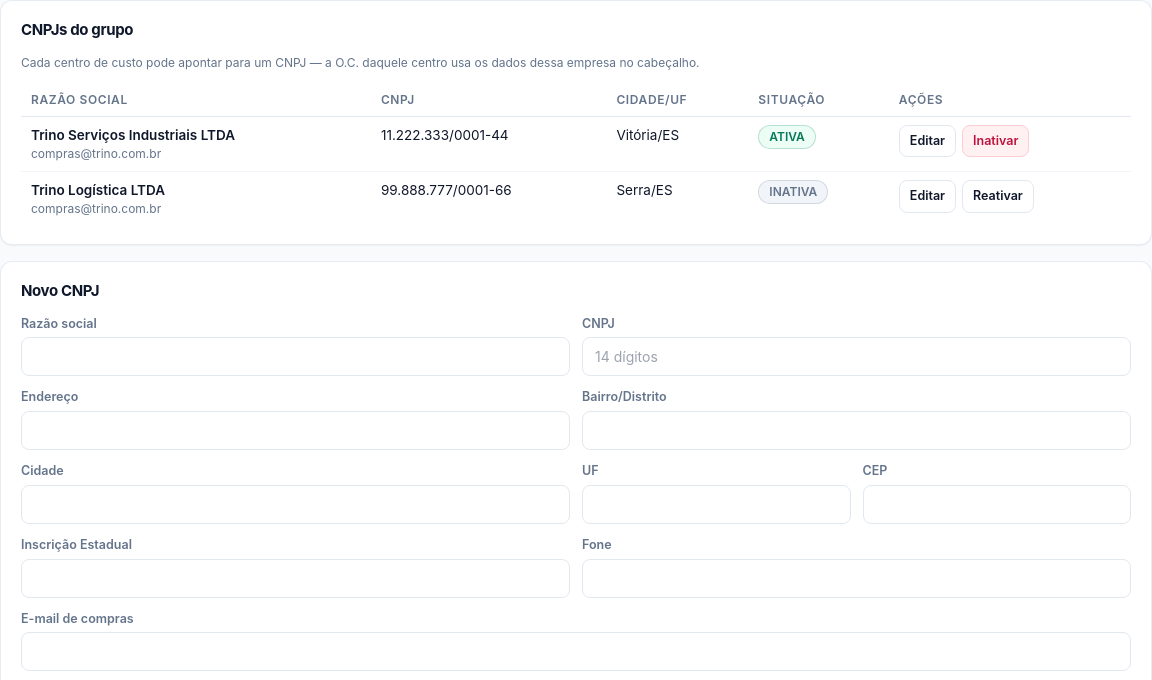
Test case: <Empresas /> › editar trava o CNPJ, que é a identidade da empresa
Expected: the table with test id "tabela-empresas" is shown, x1=21 y1=84 x2=1131 y2=226
Click the button "Editar" in the row of "Trino Serviços Industriais LTDA" at [927, 141], box x1=899 y1=124 x2=956 y2=157
(page scrolled)
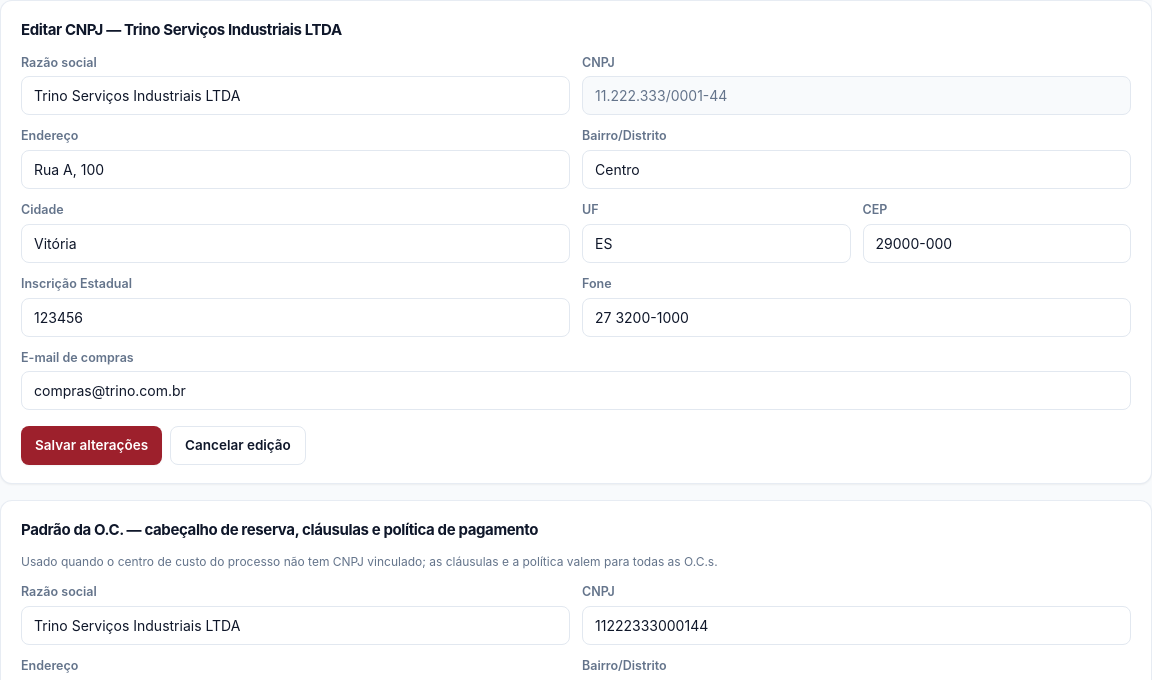
Expected: the 1st field labelled "CNPJ" is disabled, x1=582 y1=76 x2=1131 y2=115
Expected: the 1st field labelled "CNPJ" holds "11.222.333/0001-44", x1=582 y1=76 x2=1131 y2=115
Expected: the field labelled "Cidade" holds "Vitória", x1=21 y1=224 x2=570 y2=263
